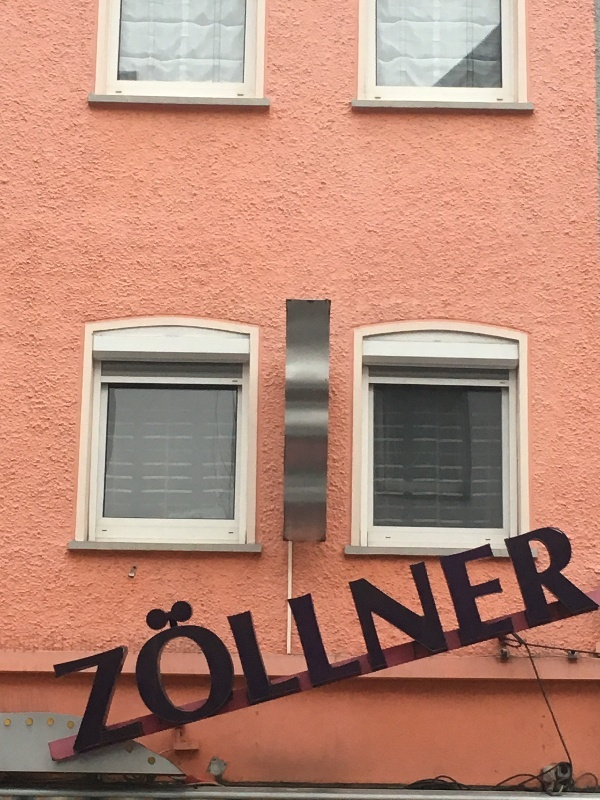text: (49, 452, 64, 759), (65, 452, 80, 759), (81, 452, 96, 759), (97, 452, 112, 759), (113, 452, 128, 759), (129, 452, 144, 759), (145, 452, 160, 759), (161, 452, 176, 759), (177, 452, 192, 759), (193, 452, 208, 759), (209, 452, 224, 759), (225, 452, 240, 759), (241, 452, 256, 759), (257, 452, 272, 759), (273, 452, 288, 759), (289, 452, 304, 759), (305, 452, 320, 759), (321, 452, 336, 759), (337, 452, 352, 759), (353, 452, 368, 759), (369, 452, 384, 759), (385, 452, 400, 759), (401, 452, 416, 759), (417, 452, 432, 759), (433, 452, 448, 759), (449, 452, 464, 759), (465, 452, 480, 759), (481, 452, 496, 759), (497, 452, 512, 759), (513, 452, 528, 759), (529, 452, 544, 759), (545, 452, 560, 759), (561, 452, 576, 759), (577, 452, 592, 759), (593, 452, 600, 759), (47, 452, 48, 759)
